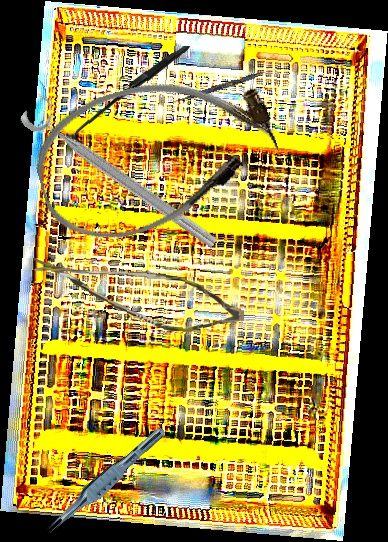Cannula: (22, 53, 290, 256)
Fixation Ring: (17, 90, 230, 254)
Hook Surgical: (73, 42, 191, 148)
Micro Scissor: (26, 257, 247, 335)
Spatula Surgical: (170, 62, 284, 108)
Tissue Forceps: (43, 419, 168, 541)
